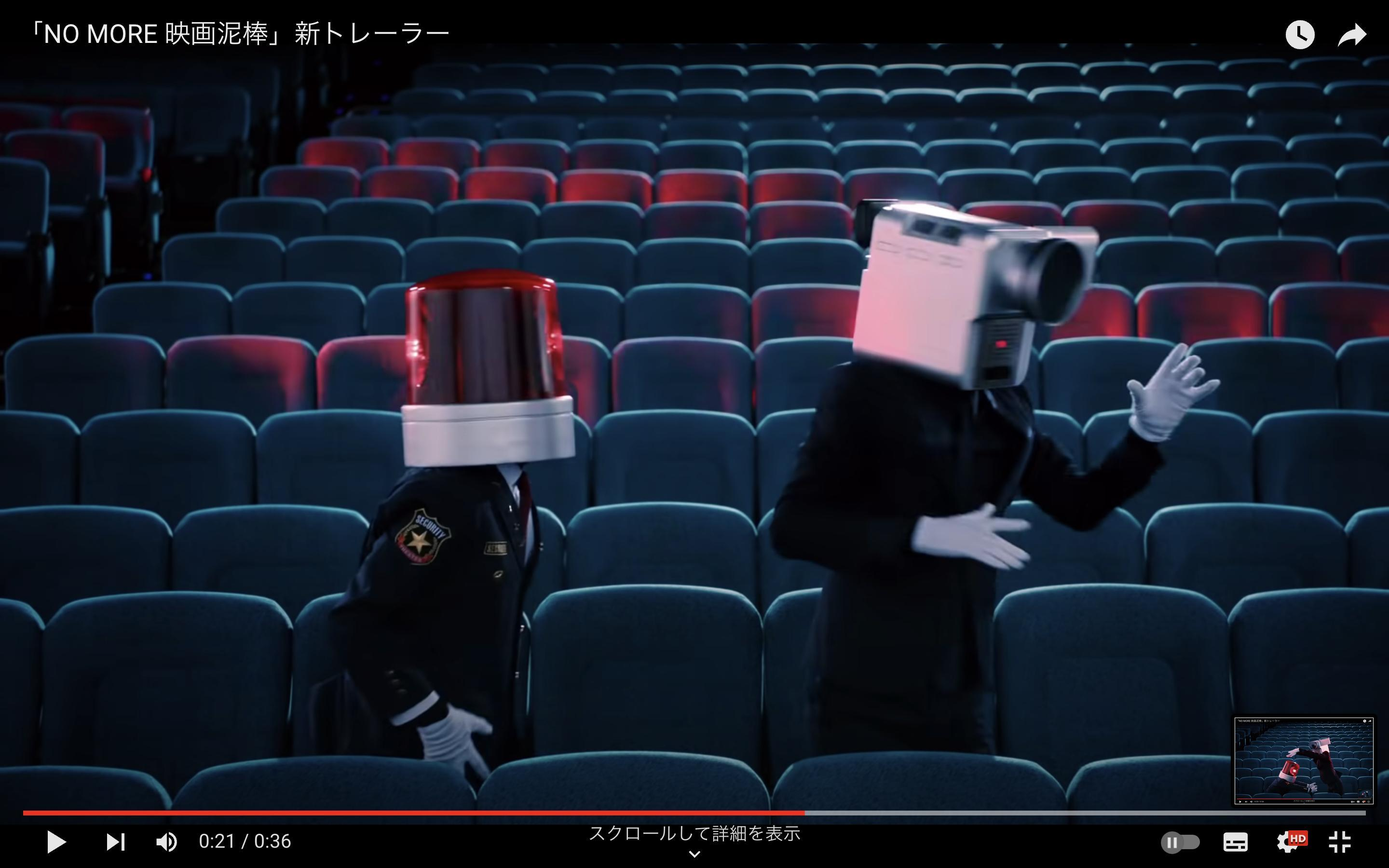no more kid: (844, 192, 1098, 392)
